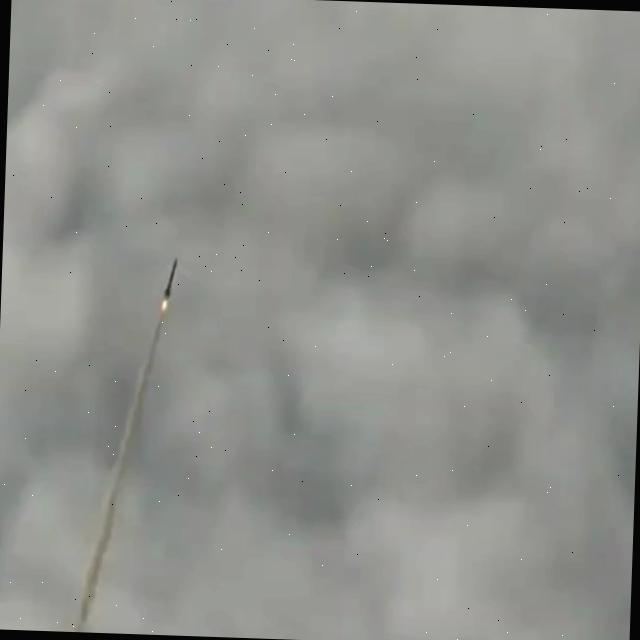smoke_trail_with_rocket: (70, 258, 178, 632)
